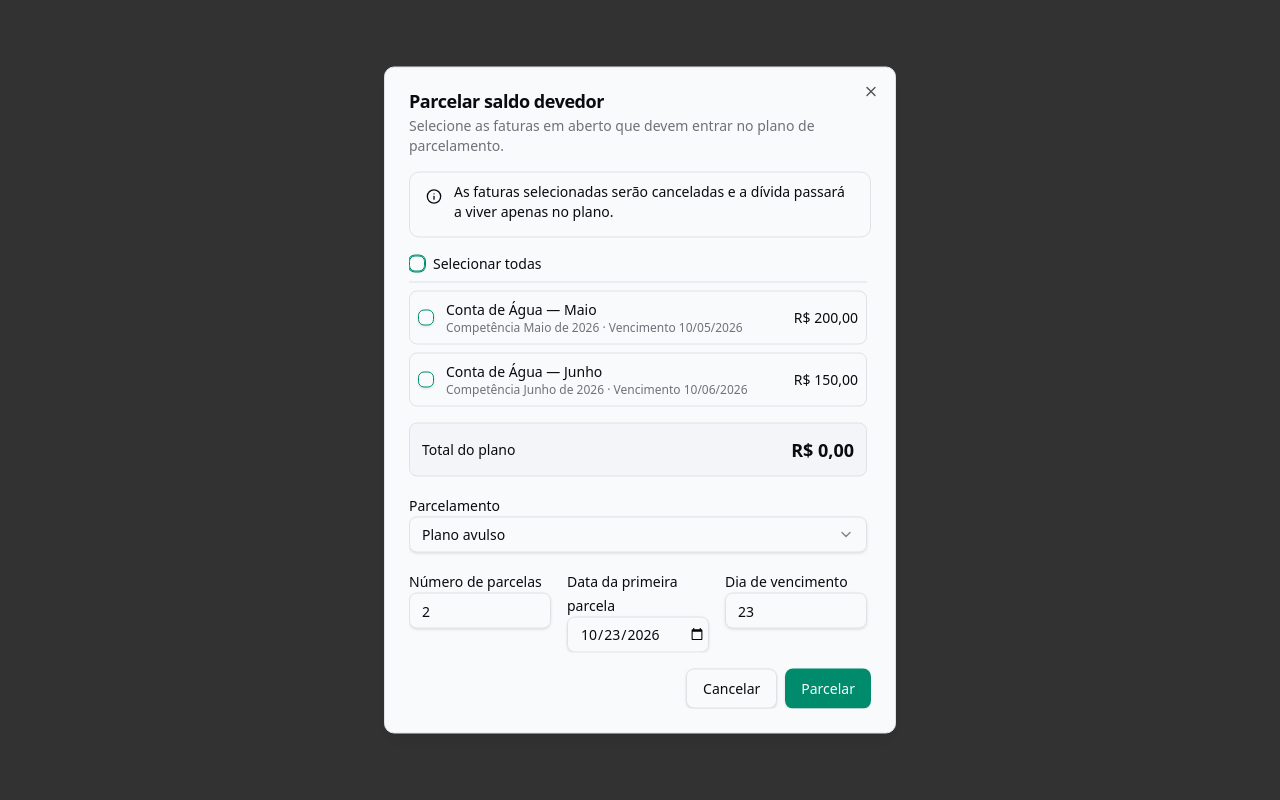
Test: ConsolidateDebtDialog › bloqueia submit sem seleção com mensagem PT
Click the button "Parcelar".
click(828, 688)  # box [785,668,871,708]
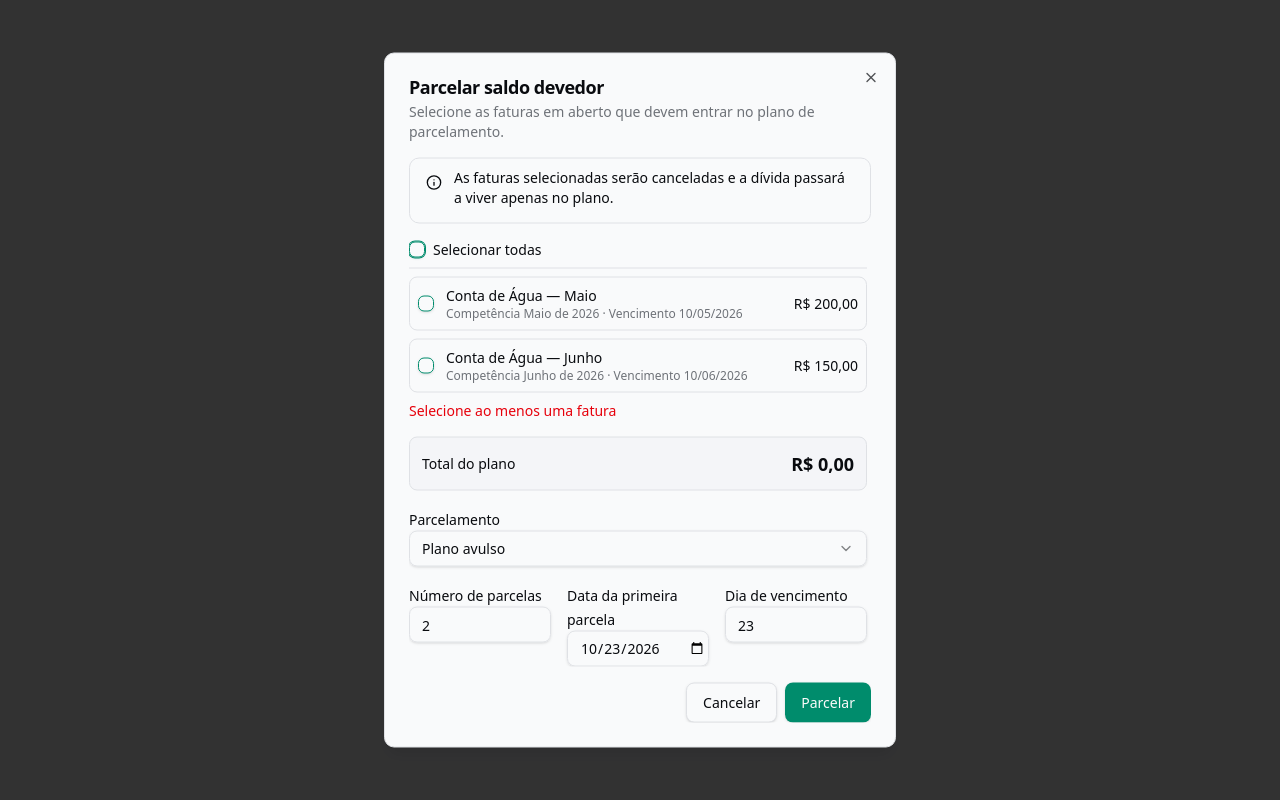
Expected: the text "Selecione ao menos uma fatura" is shown, [409,400,616,420]
